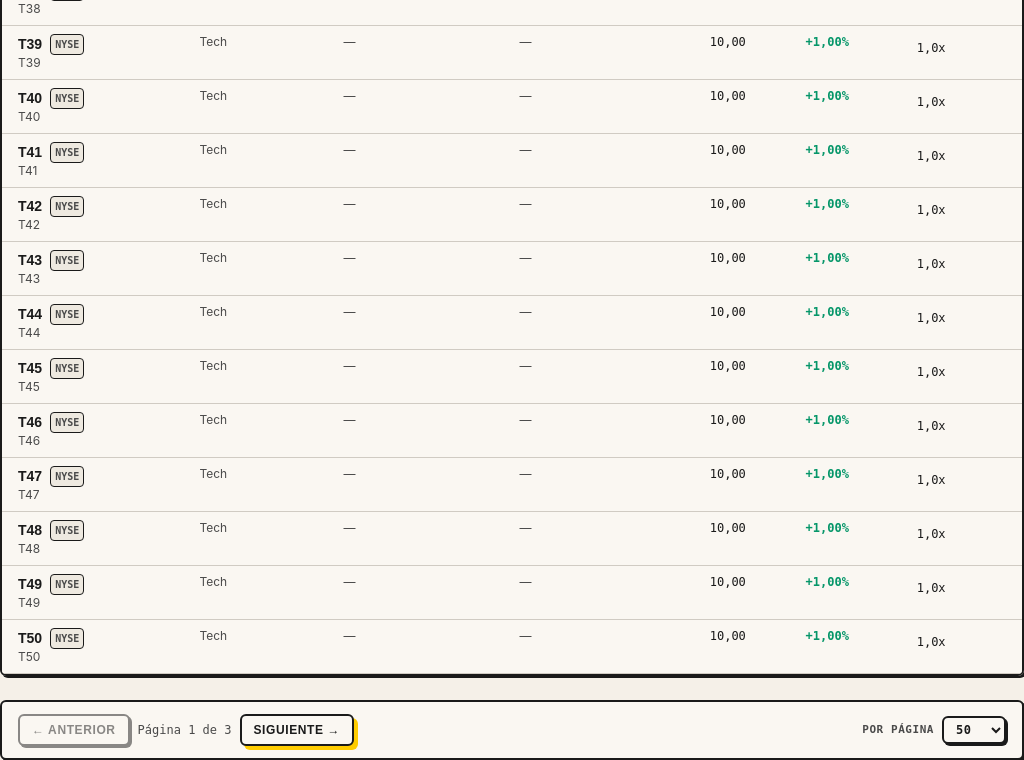
ScreenerPage pagination › keeps keyboard focus on the button while the next page loads
(page scrolled)
Expected: the text "Página 1 de 3" is shown, [138, 722, 232, 738]
Click the button "Siguiente →".
click(297, 730)  # box [240, 714, 354, 746]
(page scrolled)
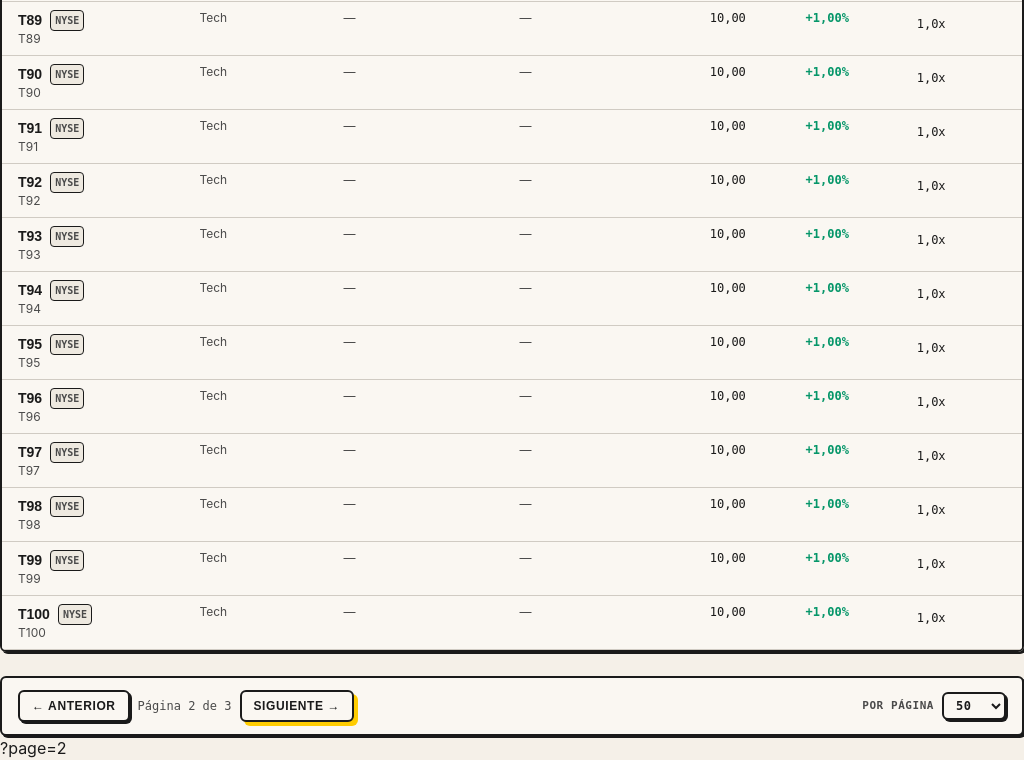
Expected: the button "Siguiente →" is enabled, [240, 690, 354, 722]
Expected: the text "Página 2 de 3" is shown, [138, 698, 232, 714]
